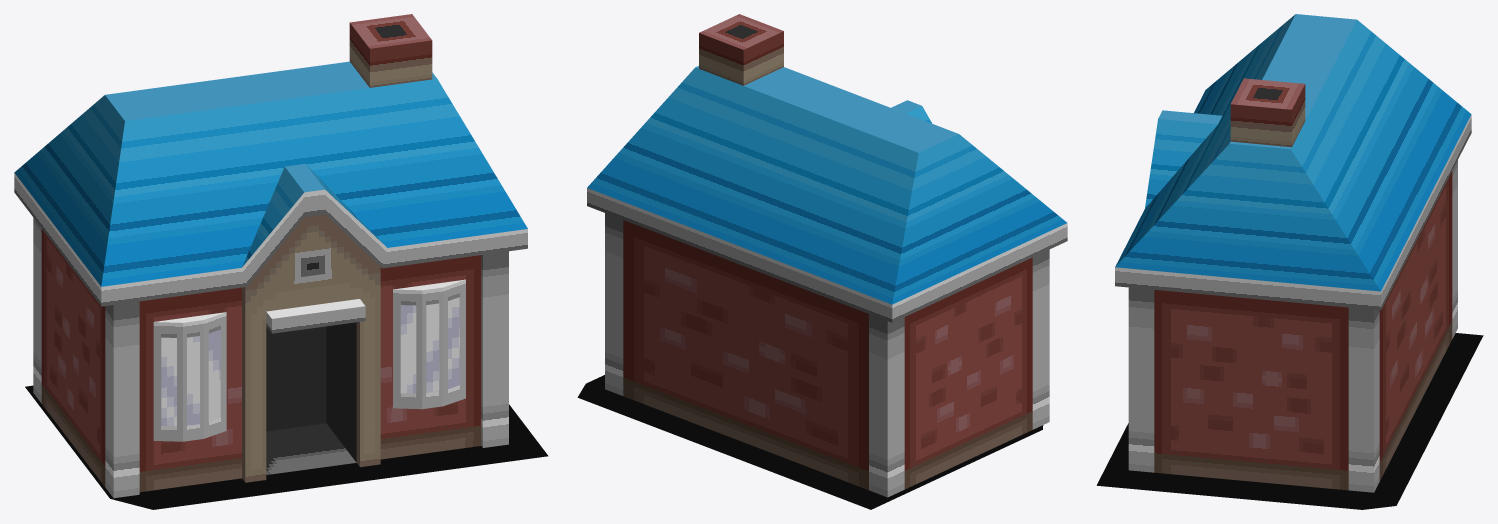
Rendered from Accumula Town House.obj.
3 renders of one model, left to right at view 1: azimuth 30°, elevation 25°; view 2: azimuth 150°, elevation 25°; view 3: azimuth 270°, elevation 25°, orthographic. The views are drawn at different scales.
Parts seen in each view (by area): view 1: Accumula_Town_House; view 2: Accumula_Town_House; view 3: Accumula_Town_House.
Boxes of the visible parts, <box> form: Accumula_Town_House: <box>14,14,548,509</box>; Accumula_Town_House: <box>577,14,1067,509</box>; Accumula_Town_House: <box>1096,14,1483,509</box>.
Bounding box in the file's own units: 93.46 × 75.89 × 74.
Materials: 4 (4 with a texture image).
